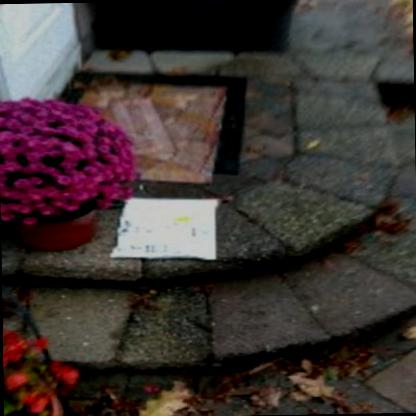plastic_bag: (106, 196, 222, 262)
